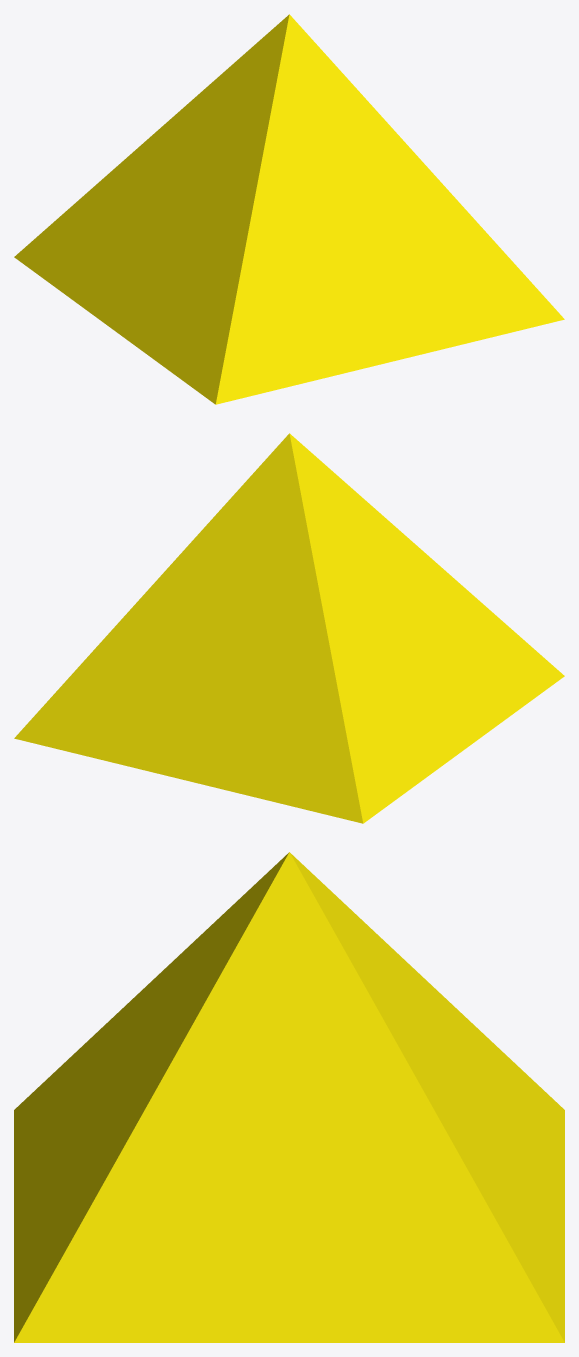
3 views of the same model, one above another, from view 1: azimuth 30°, elevation 25°; view 2: azimuth 150°, elevation 25°; view 3: azimuth 270°, elevation 25° (orthographic). The views are drawn at different scales.
Bounding box in the file's own units: 2 × 1.5 × 2.
